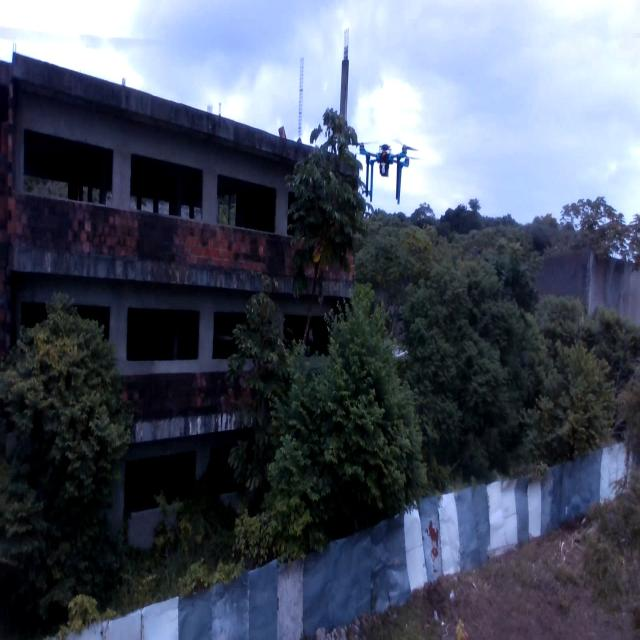-uav-: (342, 126, 421, 213)
